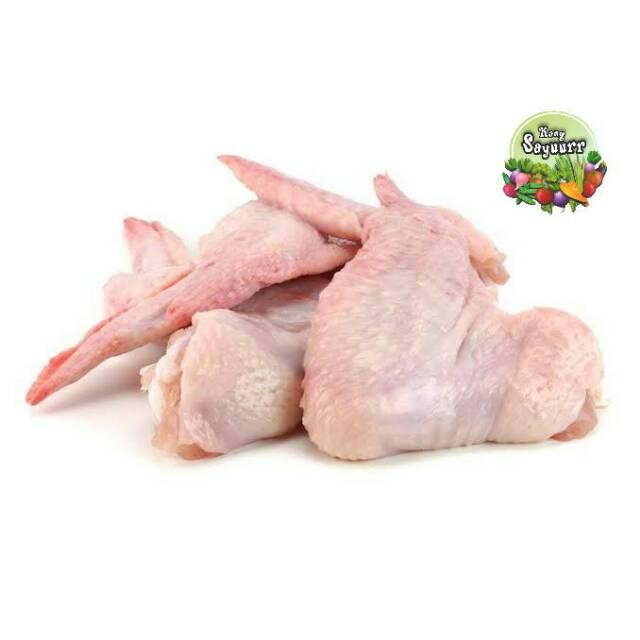chicken: (32, 144, 608, 461), (215, 146, 605, 460)
